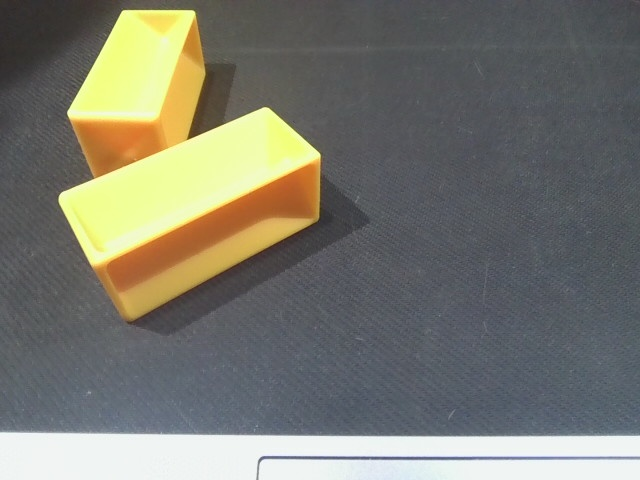YellowSample: (41, 106, 328, 327), (62, 7, 209, 176)
